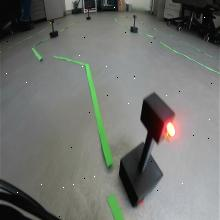red: (139, 92, 178, 143)
